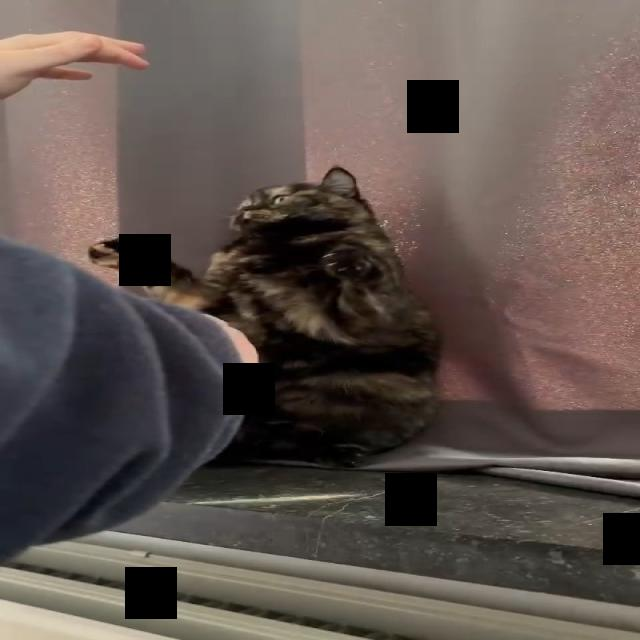authorized: (86, 164, 442, 468)
